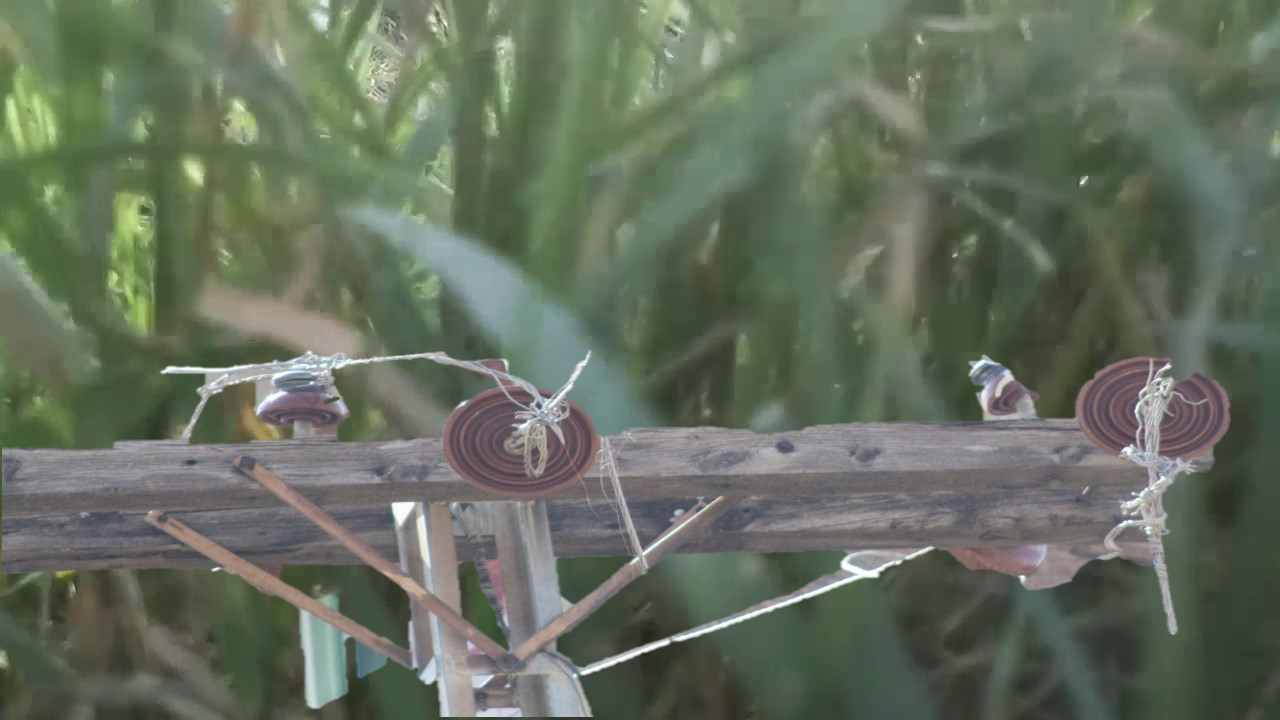defect_pin: (965, 351, 1042, 423)
insulator_disc: (439, 380, 604, 500), (1072, 345, 1236, 463)
insulator_pin: (252, 363, 353, 432)
